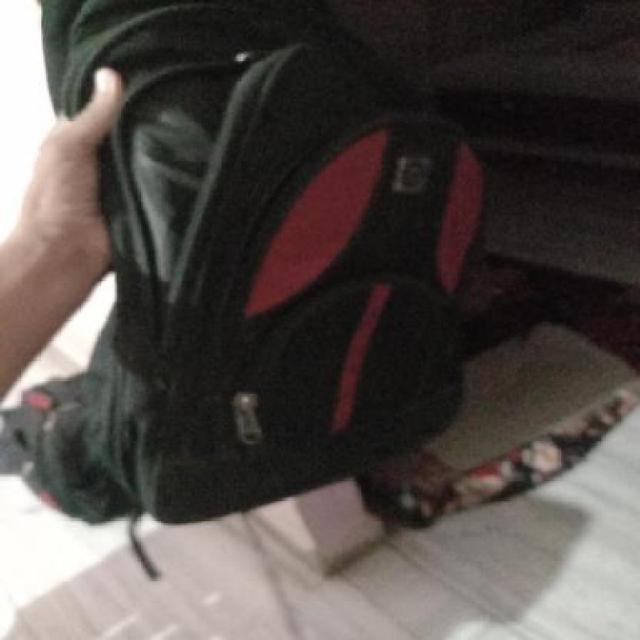backpack: (1, 0, 497, 531)
